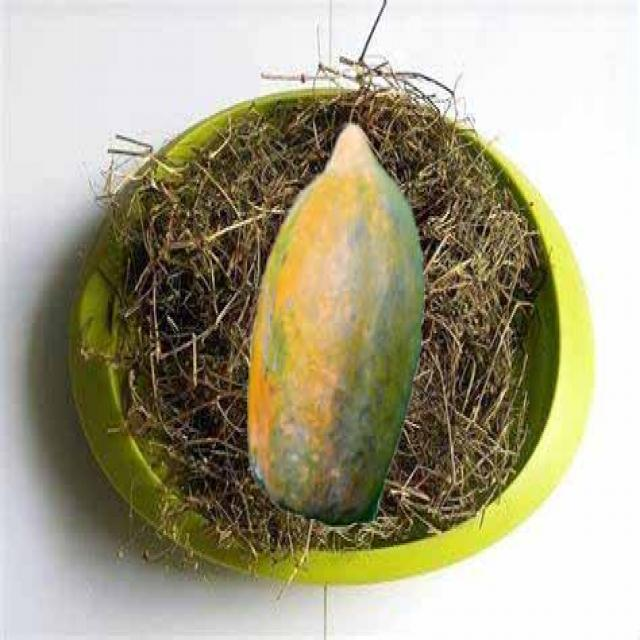Pepaya rippen: (250, 123, 436, 533)
